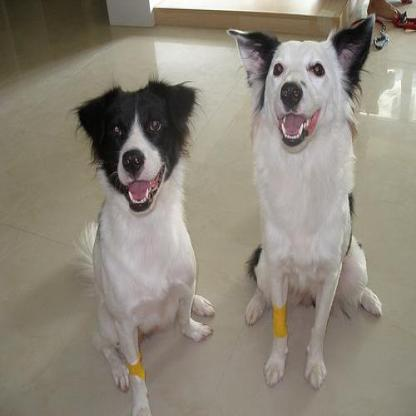Border_collie: (225, 2, 385, 394), (70, 66, 213, 413)
